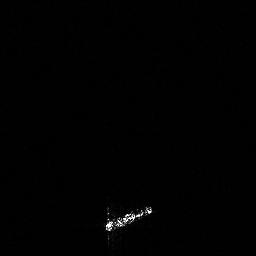ship: (102, 203, 156, 234)
